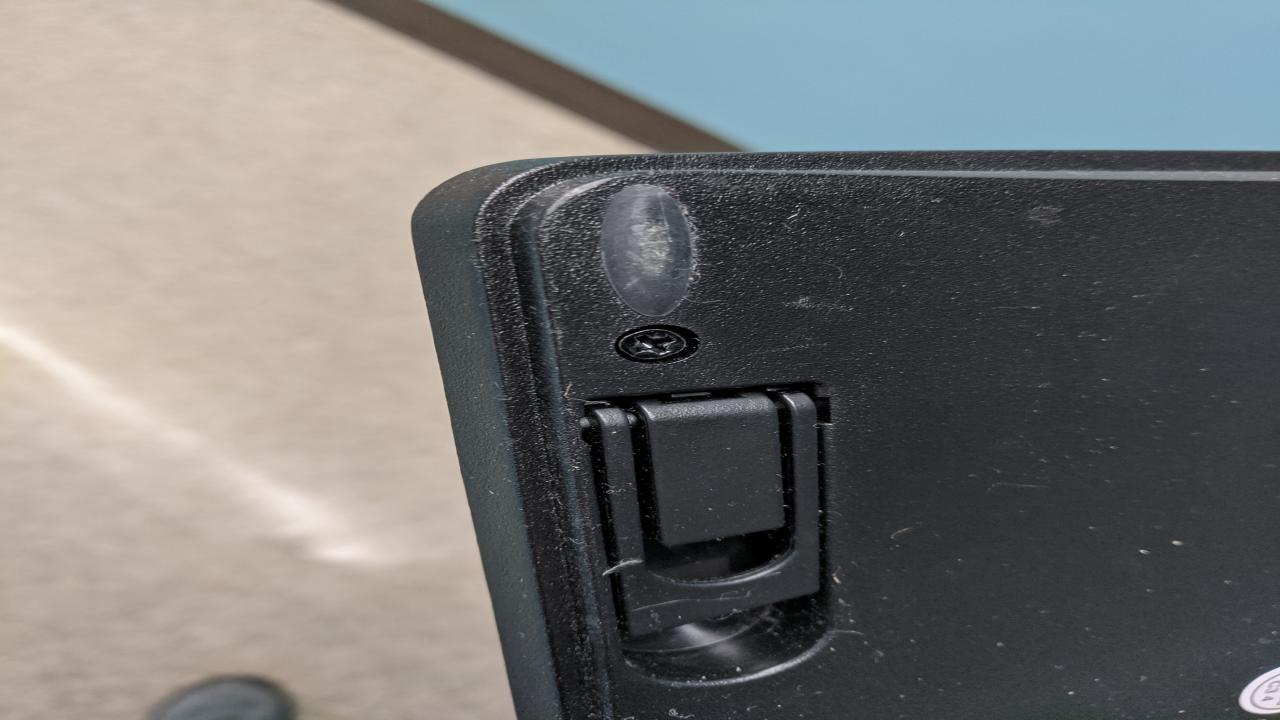CRS: (616, 327, 694, 365)
